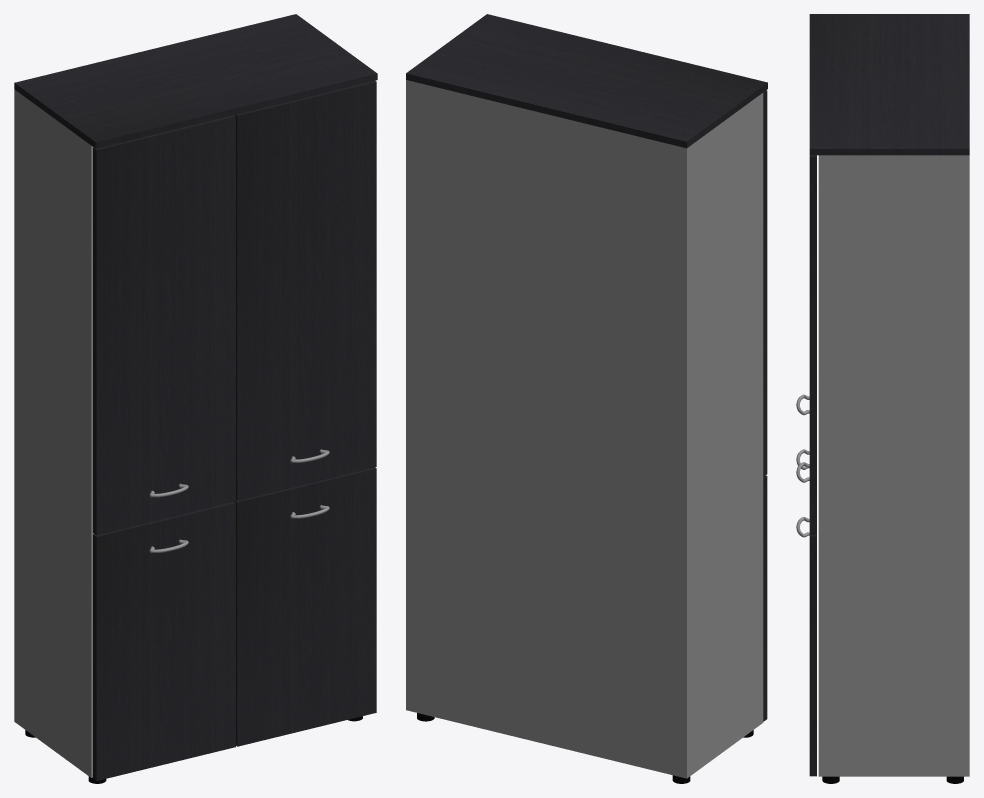
Rendered from mobile90198W.obj.
The picture shows the model from 3 angles, left to right: view 1: azimuth 30°, elevation 25°; view 2: azimuth 150°, elevation 25°; view 3: azimuth 270°, elevation 25°; orthographic projection.
Parts seen in each view (by area): view 1: Box42_13, Box38_2, Box43_14, Box41_11, Box39_6, Box40_9; view 2: Box43_14, Box40_9, Box42_13, Box41_11; view 3: Box43_14, Box40_9, Box38_2, Box39_6.
Part boxes in pixels (x1,y1,x2,y2): Box42_13: [93, 115, 235, 535]; Box38_2: [234, 81, 376, 500]; Box43_14: [14, 89, 93, 777]; Box41_11: [93, 502, 235, 780]; Box39_6: [234, 467, 376, 746]; Box40_9: [14, 14, 377, 148]; Box43_14: [406, 80, 763, 778]; Box40_9: [406, 14, 767, 148]; Box42_13: [763, 90, 767, 476]; Box41_11: [763, 475, 767, 721]; Box43_14: [818, 155, 969, 776]; Box40_9: [809, 14, 969, 155]; Box38_2: [809, 155, 816, 534]; Box39_6: [809, 535, 816, 776].
Bounding box in the file's own units: 90 × 198 × 48.75.
